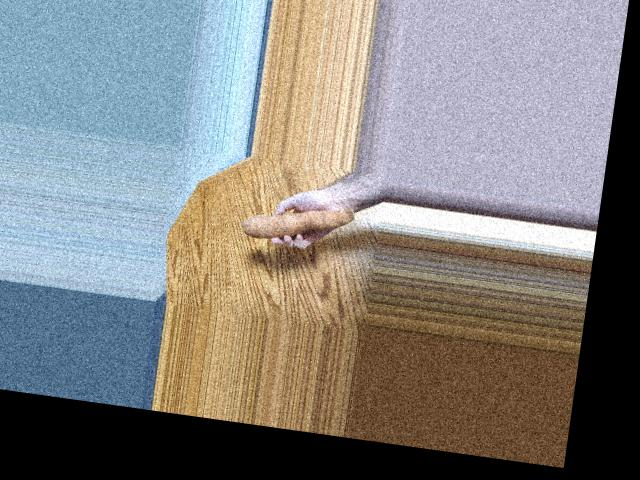sweet_potato: (237, 197, 350, 252)
